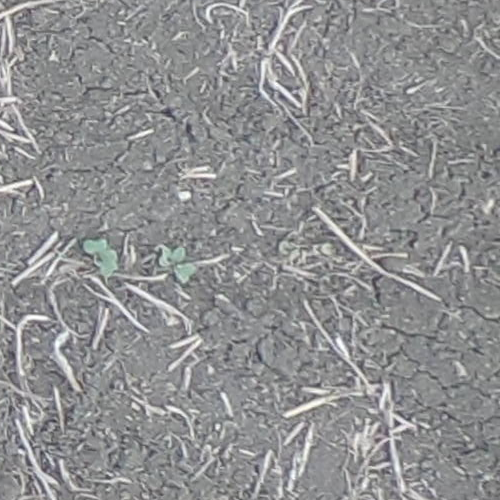isolated: (157, 243, 196, 282), (82, 239, 119, 279)
